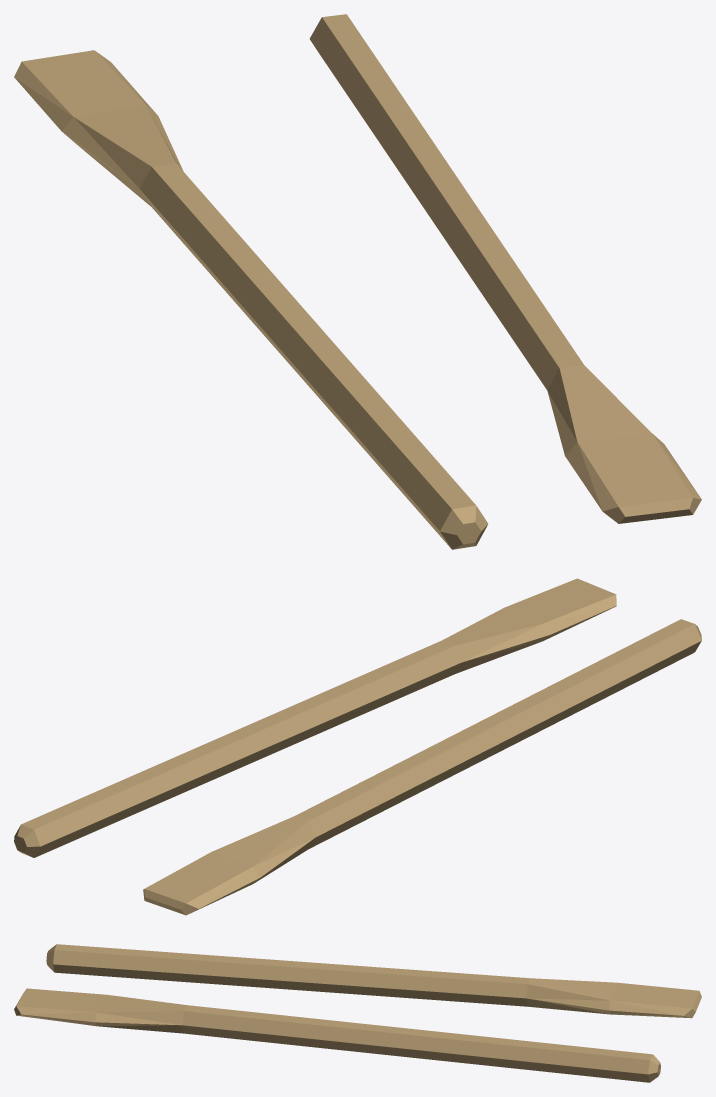
The model's file is Prop_Boat_Oars_1.glb.
3 renders of one model, top to bottom at view 1: azimuth 30°, elevation 25°; view 2: azimuth 150°, elevation 25°; view 3: azimuth 270°, elevation 25°, orthographic. The views are drawn at different scales.
Visible parts, largest first — view 1: Prop_Boat_Oars_1; view 2: Prop_Boat_Oars_1; view 3: Prop_Boat_Oars_1.
Boxes of the visible parts, left/top/right/bottom form: Prop_Boat_Oars_1: left=14, top=14, right=701, bottom=549; Prop_Boat_Oars_1: left=14, top=578, right=701, bottom=915; Prop_Boat_Oars_1: left=14, top=944, right=701, bottom=1082.
Size of the model in its own units: 0.6285 by 0.0541 by 1.5.
